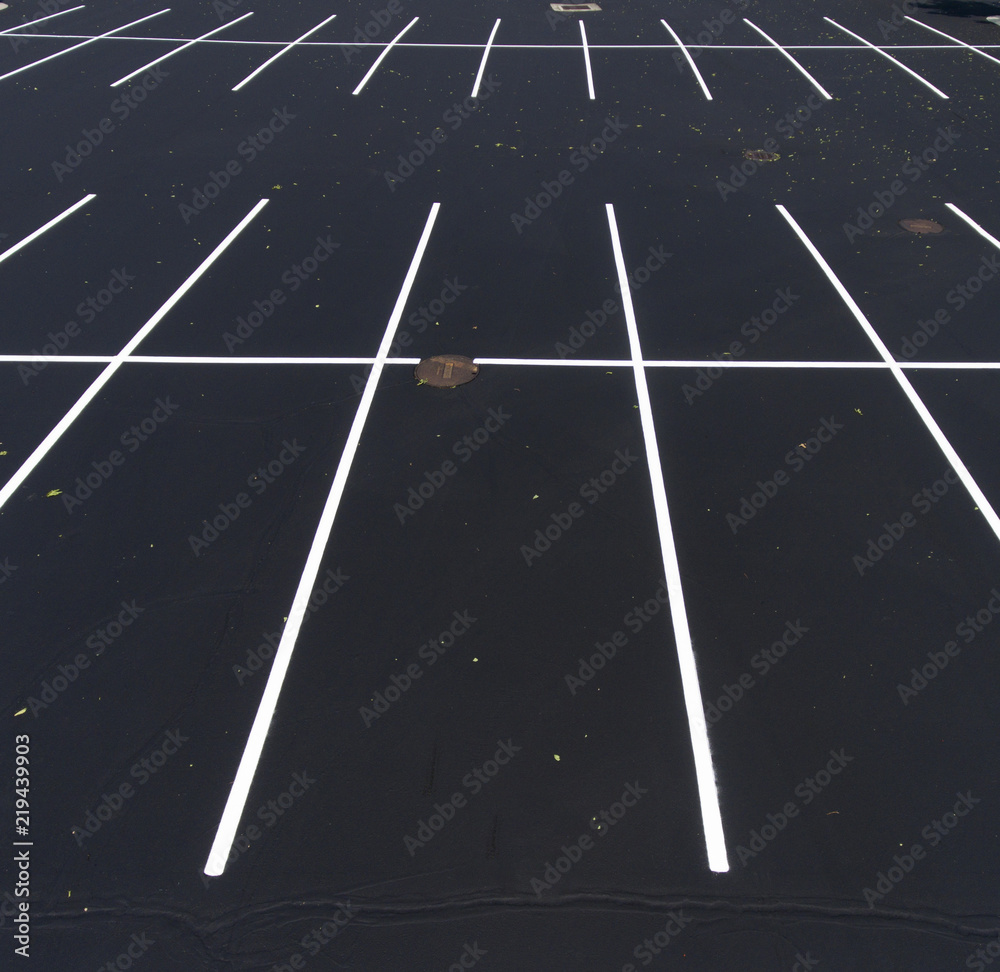dolu: (216, 360, 685, 908), (20, 363, 383, 892), (639, 362, 994, 872), (129, 193, 444, 367), (603, 190, 879, 371), (382, 199, 640, 366)
